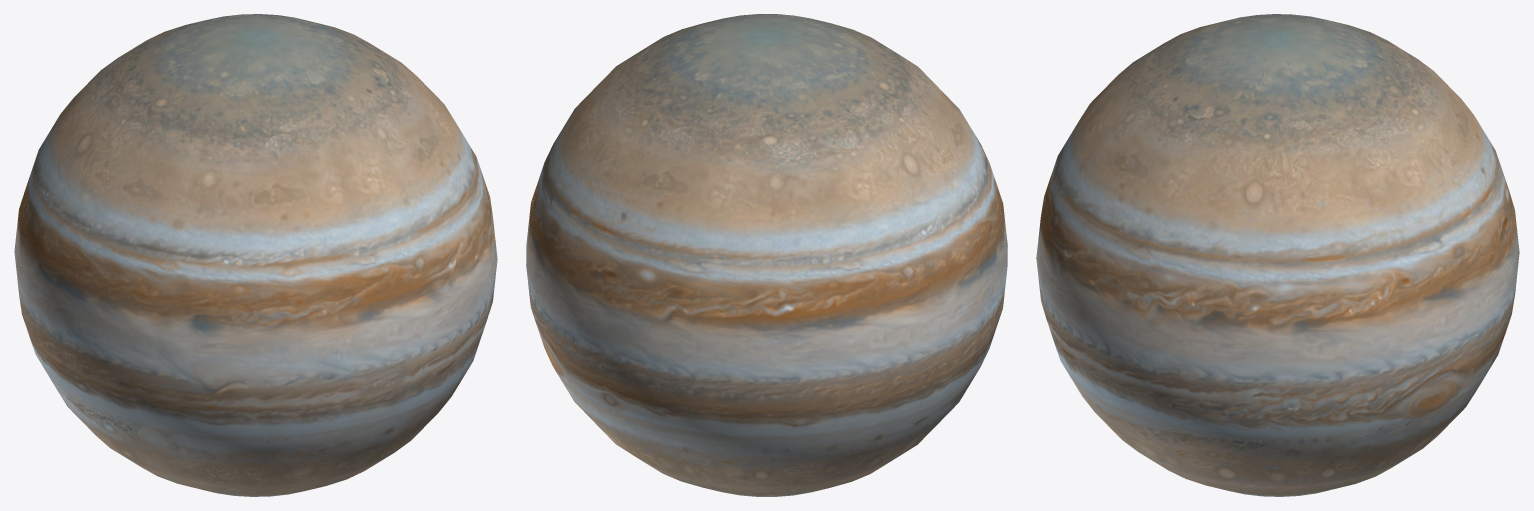
File: jupiter.glb
3 renders of one model, left to right at view 1: azimuth 30°, elevation 25°; view 2: azimuth 150°, elevation 25°; view 3: azimuth 270°, elevation 25°, orthographic.
Visible parts, largest first — view 1: jupiter.001; view 2: jupiter.001; view 3: jupiter.001.
Part boxes in pixels (bbox=[...]): jupiter.001: bbox=[14, 14, 497, 496]; jupiter.001: bbox=[526, 14, 1007, 496]; jupiter.001: bbox=[1036, 14, 1519, 496].
Size of the model in its own units: 0.4967 by 0.4969 by 0.4967.
1 material, 1 textured.
